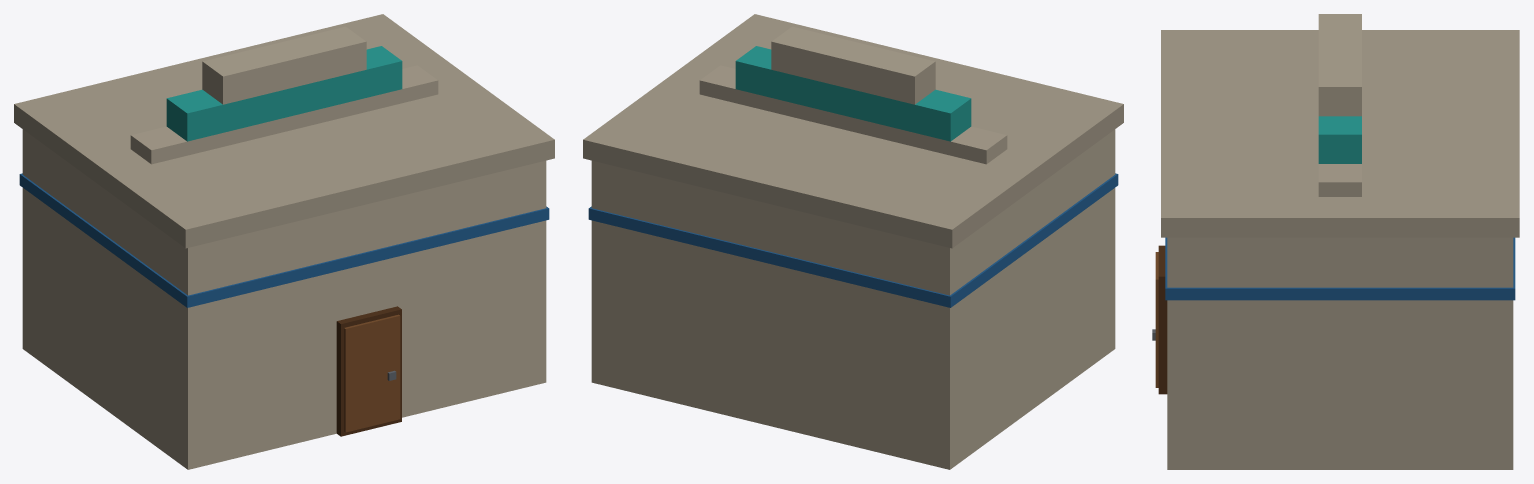
Rendered from frog_house_c.glb.
The picture shows the model from 3 angles, left to right: view 1: azimuth 30°, elevation 25°; view 2: azimuth 150°, elevation 25°; view 3: azimuth 270°, elevation 25°; orthographic projection. The views are drawn at different scales.
Parts seen in each view (by area): view 1: frog_house_c; view 2: frog_house_c; view 3: frog_house_c.
Part boxes in pixels (x1,y1,x2,y2): frog_house_c: (14, 14, 554, 469); frog_house_c: (583, 14, 1123, 469); frog_house_c: (1152, 14, 1519, 469).
Bounding box in the file's own units: 2.06 × 1.68 × 1.7.
